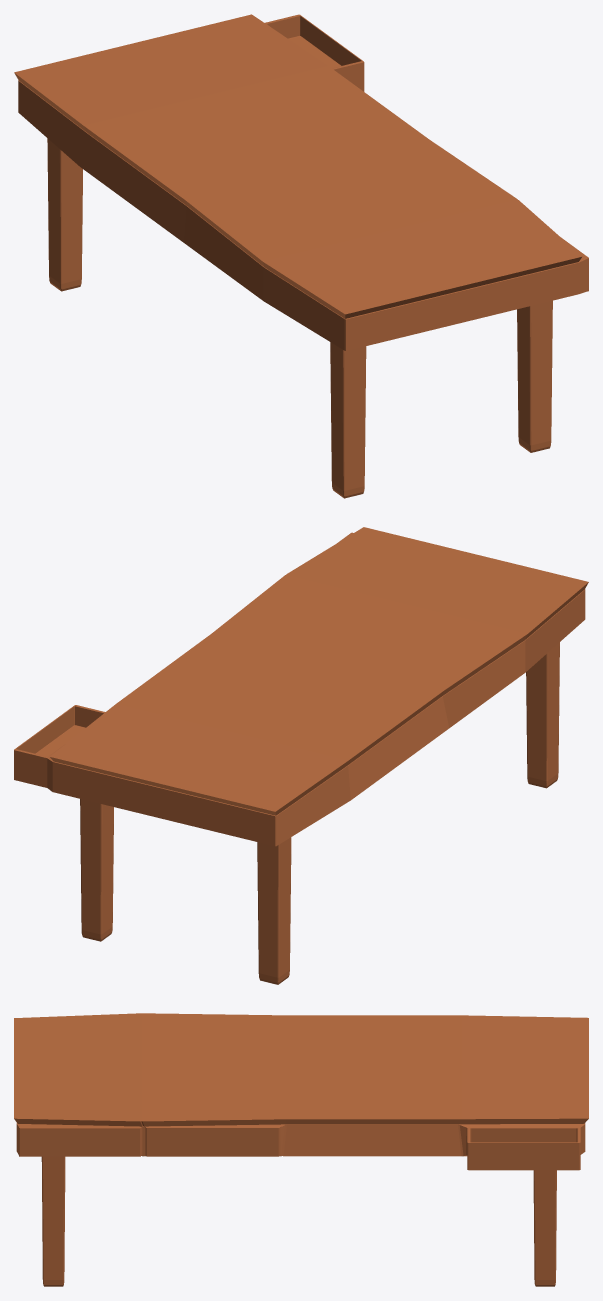
Rendered from CoolBord.fbx.
3 views of the same model, one above another, from view 1: azimuth 30°, elevation 25°; view 2: azimuth 150°, elevation 25°; view 3: azimuth 270°, elevation 25° (orthographic). The views are drawn at different scales.
Visible parts, largest first — view 1: Cube.007; view 2: Cube.007; view 3: Cube.007.
Boxes of the visible parts, x1,y1,x2,y2 form: Cube.007: (14,14,588,498); Cube.007: (14,527,588,984); Cube.007: (14,1013,588,1286).
Size of the model in its own units: 708 by 472 by 1402.
